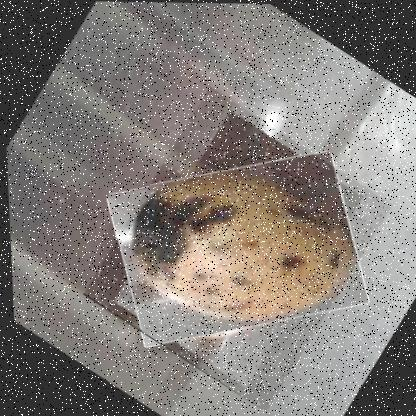mango_rotten: (71, 83, 398, 413)
